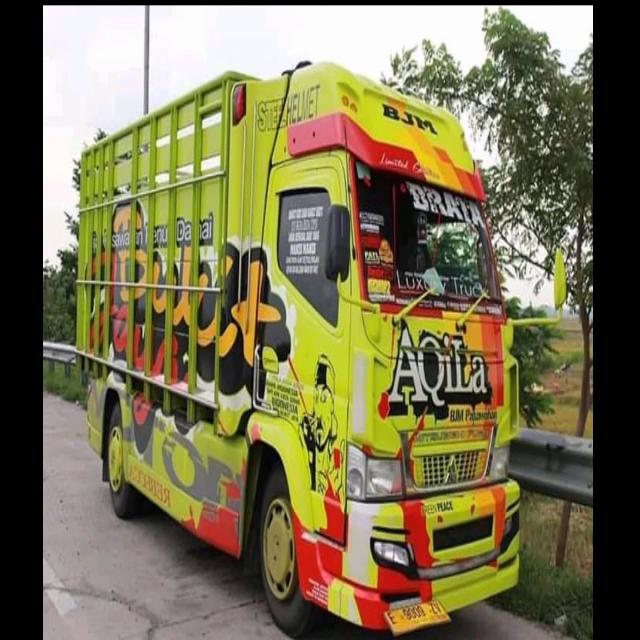truck: (73, 57, 571, 639)
